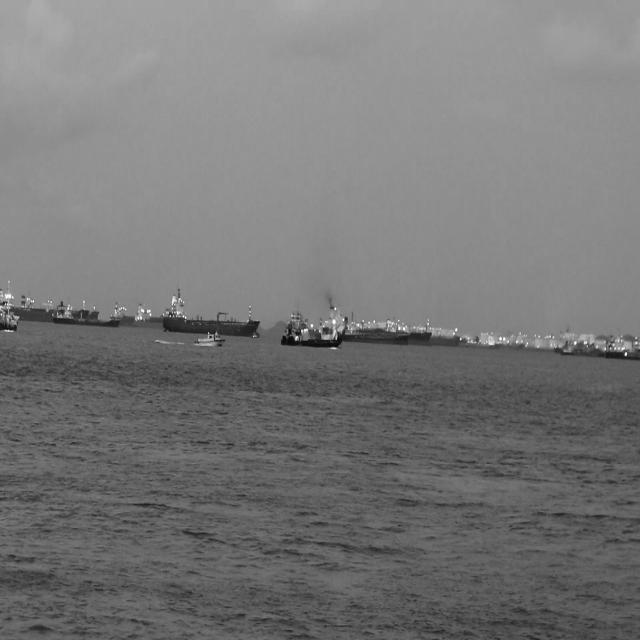boat: (278, 307, 349, 349)
ship: (161, 282, 260, 336), (3, 287, 86, 322), (325, 319, 411, 348), (51, 302, 125, 330), (111, 304, 167, 329), (435, 314, 466, 349), (195, 330, 228, 355), (412, 317, 434, 354), (0, 293, 20, 333), (603, 345, 639, 365), (560, 344, 604, 360)
